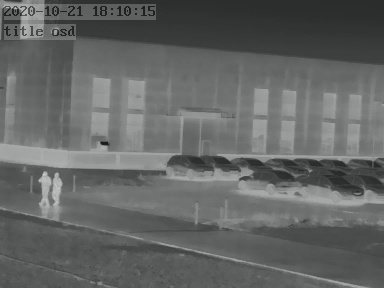person: (40, 172, 51, 208), (52, 172, 63, 208)
vehicle: (302, 172, 362, 204), (239, 168, 301, 194), (165, 153, 212, 178), (204, 153, 242, 177), (349, 174, 384, 200), (232, 155, 271, 172), (261, 155, 301, 171), (347, 156, 378, 170), (296, 156, 325, 169), (317, 156, 346, 169)
